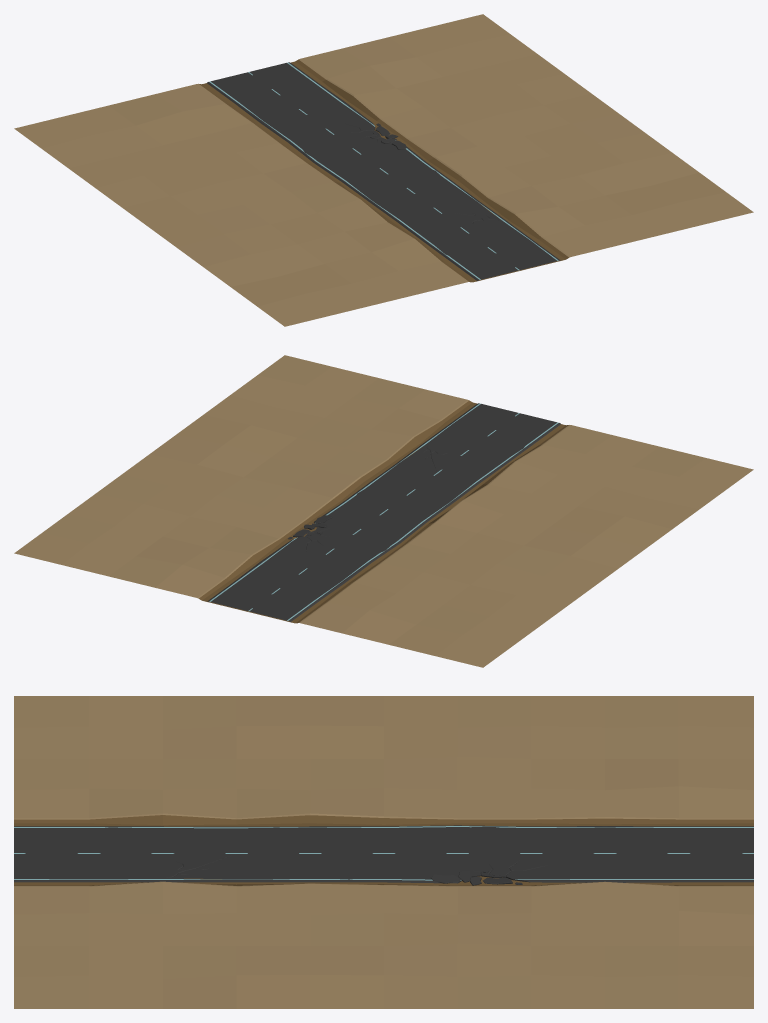
The model's file is model_road_dirt_straight_02.fbx.
The picture shows the model from 3 angles, top to bottom: view 1: azimuth 30°, elevation 25°; view 2: azimuth 150°, elevation 25°; view 3: azimuth 270°, elevation 25°; orthographic projection. The views are drawn at different scales.
Parts seen in each view (by area): view 1: model_road_dirt_straight_02; view 2: model_road_dirt_straight_02; view 3: model_road_dirt_straight_02.
Part boxes in pixels (x1,y1,x2,y2): model_road_dirt_straight_02: (14, 14, 753, 326); model_road_dirt_straight_02: (14, 355, 753, 667); model_road_dirt_straight_02: (14, 696, 753, 1008).
Size of the model in its own units: 6161 by 68.27 by 6161.
1 material, 1 textured.
